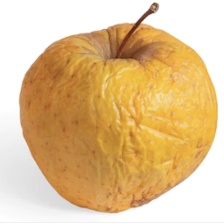apple: (42, 41, 221, 200)
